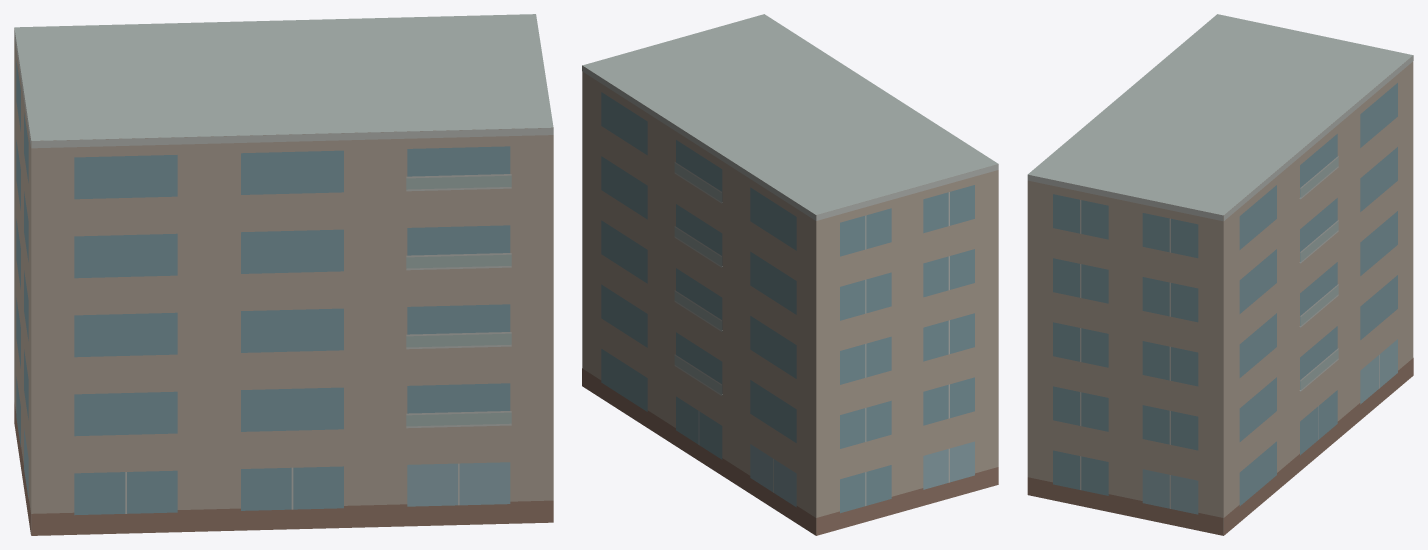
Rendered from survey-upis-32844510.glb.
3 views of the same model, side by side, from view 1: azimuth 30°, elevation 25°; view 2: azimuth 150°, elevation 25°; view 3: azimuth 270°, elevation 25° (orthographic). The views are drawn at different scales.
Parts seen in each view (by area): view 1: survey-upis-32844510.tmp; view 2: survey-upis-32844510.tmp; view 3: survey-upis-32844510.tmp.
Part boxes in pixels (bbox=[...]): survey-upis-32844510.tmp: bbox=[14, 14, 553, 535]; survey-upis-32844510.tmp: bbox=[582, 14, 998, 535]; survey-upis-32844510.tmp: bbox=[1027, 14, 1413, 535].
Bounding box in the file's own units: 17.81 × 13.2 × 14.42.
